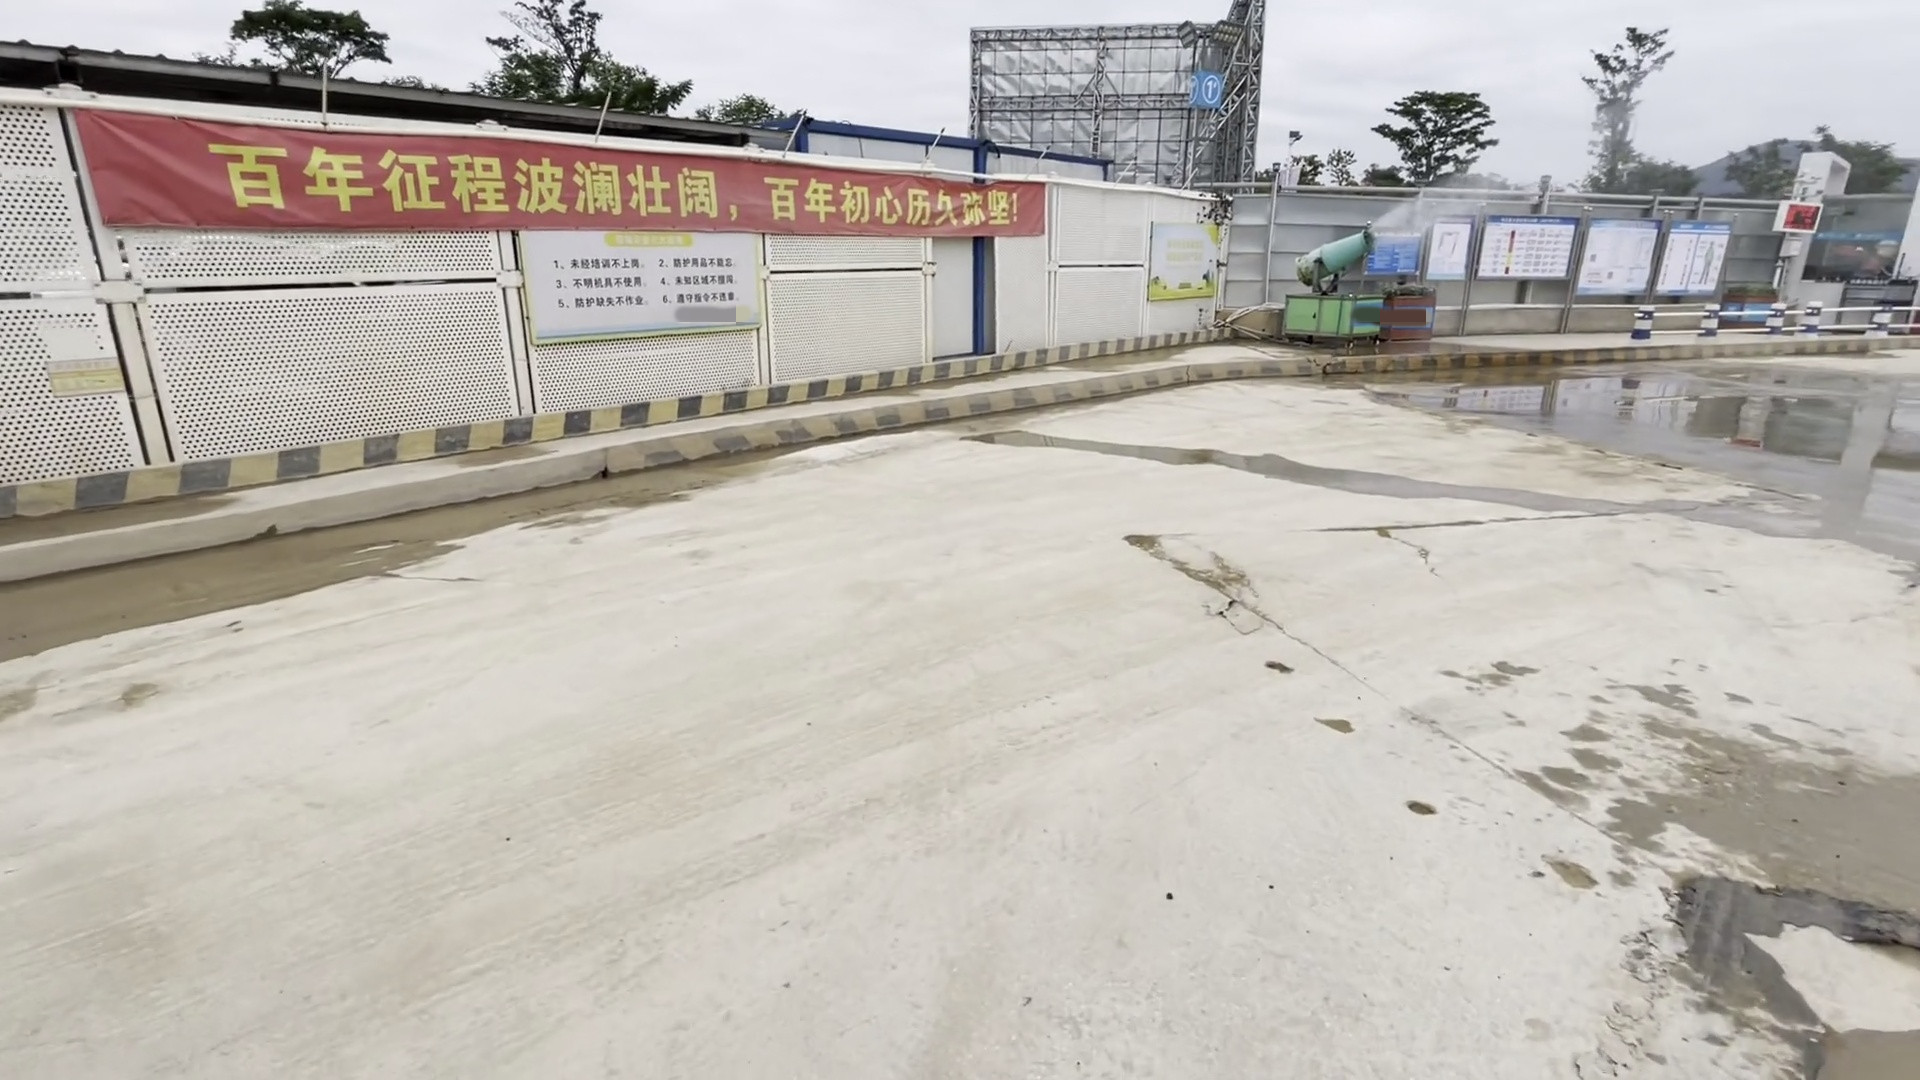slogan: (84, 111, 1036, 237), (512, 218, 769, 330)
